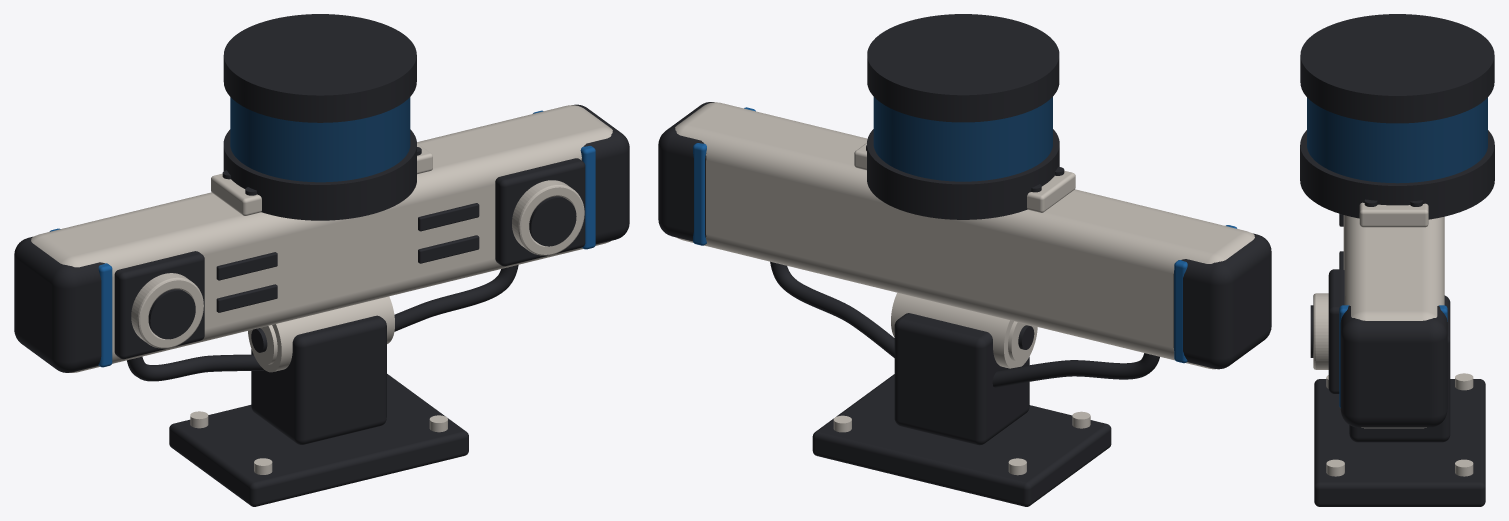
Rendered from anatomy-44.glb.
3 renders of one model, left to right at view 1: azimuth 30°, elevation 25°; view 2: azimuth 150°, elevation 25°; view 3: azimuth 270°, elevation 25°, orthographic.
Parts seen in each view (by area): view 1: bar, lidar, base, sensors, gimbal, ends, optic, cables, vents, scanner-bracket; view 2: bar, lidar, base, gimbal, ends, optic, cables, scanner-bracket; view 3: lidar, base, ends, optic, bar, sensors, gimbal, scanner-bracket.
Part boxes in pixels (left/top/right/bottom): bar: left=31, top=105, right=612, bottom=372; lidar: left=223, top=14, right=416, bottom=220; base: left=169, top=374, right=468, bottom=506; sensors: left=114, top=158, right=585, bottom=359; gimbal: left=248, top=296, right=394, bottom=444; ends: left=14, top=104, right=629, bottom=372; optic: left=230, top=97, right=410, bottom=182; cables: left=127, top=265, right=518, bottom=381; vents: left=216, top=203, right=479, bottom=312; scanner-bracket: left=211, top=143, right=432, bottom=215; bar: left=675, top=102, right=1254, bottom=369; lidar: left=867, top=14, right=1059, bottom=219; base: left=812, top=374, right=1111, bottom=506; gimbal: left=891, top=293, right=1037, bottom=445; ends: left=658, top=102, right=1271, bottom=369; optic: left=873, top=97, right=1052, bottom=181; cables: left=770, top=261, right=1159, bottom=387; scanner-bracket: left=854, top=143, right=1075, bottom=212; lidar: left=1300, top=14, right=1494, bottom=219; base: left=1314, top=373, right=1485, bottom=506; ends: left=1339, top=305, right=1447, bottom=427; optic: left=1307, top=97, right=1487, bottom=183; bar: left=1343, top=215, right=1444, bottom=428; sensors: left=1310, top=269, right=1344, bottom=393; gimbal: left=1349, top=295, right=1450, bottom=442; scanner-bracket: left=1359, top=199, right=1428, bottom=227.
Bounding box in the file's own units: 2.18 × 1.44 × 0.636.
